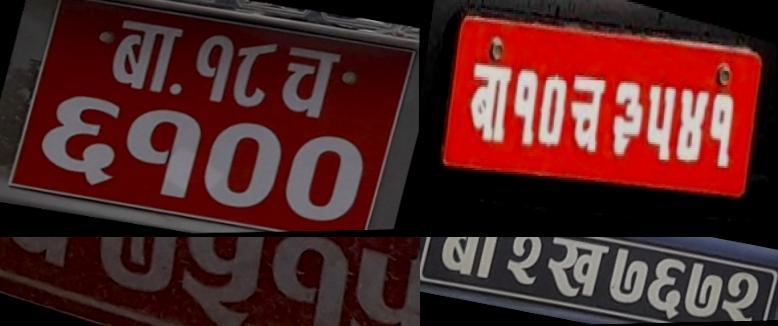0: (193, 114, 292, 219), (277, 127, 376, 231), (532, 66, 572, 156)
1: (112, 100, 211, 204), (182, 26, 242, 108), (699, 88, 742, 184), (502, 60, 544, 156)
2: (714, 265, 767, 323), (501, 237, 547, 292)
3: (254, 237, 362, 326), (602, 72, 649, 170)
4: (668, 82, 711, 176)
5: (635, 75, 681, 173)
6: (31, 84, 134, 191), (163, 237, 276, 326), (335, 244, 420, 326), (641, 252, 692, 323)
7: (83, 237, 191, 300), (677, 256, 730, 324), (603, 246, 654, 315)
8: (223, 32, 281, 115)
9: (0, 237, 91, 273)
ba: (101, 12, 186, 100), (460, 48, 518, 154), (433, 237, 510, 288)
cha: (268, 39, 345, 129), (560, 66, 608, 162)
kha: (537, 237, 611, 316)
